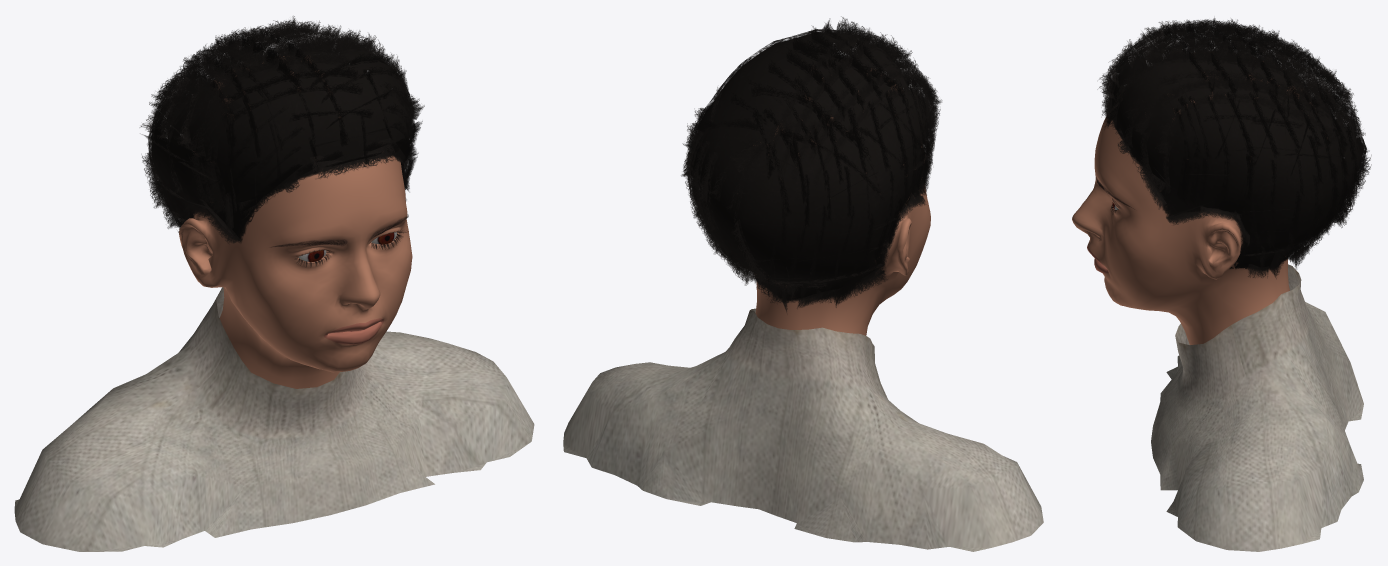
Rendered from woman-08.glb.
3 views of the same model, side by side, from view 1: azimuth 30°, elevation 25°; view 2: azimuth 150°, elevation 25°; view 3: azimuth 270°, elevation 25° (orthographic). The views are drawn at different scales.
Visible parts, largest first — view 1: mpfb-face.mindfront_knitted_sweater_01, mpfb-face.afro01, mpfb-face; view 2: mpfb-face.mindfront_knitted_sweater_01, mpfb-face.afro01, mpfb-face; view 3: mpfb-face.afro01, mpfb-face.mindfront_knitted_sweater_01, mpfb-face.
Boxes of the visible parts, <box> form: mpfb-face.mindfront_knitted_sweater_01: <box>14,287,534,551</box>; mpfb-face.afro01: <box>139,16,424,243</box>; mpfb-face: <box>179,56,412,388</box>; mpfb-face.mindfront_knitted_sweater_01: <box>563,308,1043,551</box>; mpfb-face.afro01: <box>681,16,942,312</box>; mpfb-face: <box>755,70,930,335</box>; mpfb-face.afro01: <box>1097,17,1371,278</box>; mpfb-face.mindfront_knitted_sweater_01: <box>1151,264,1363,551</box>; mpfb-face: <box>1072,75,1289,344</box>.
Bounding box in the file's own units: 0.4087 × 0.3566 × 0.2366.
Materials: 9 (7 with a texture image).
